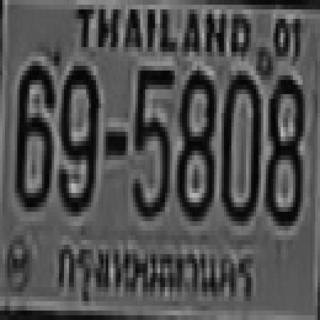N00: (219, 68, 258, 219)
N05: (131, 64, 172, 214)
N06: (14, 59, 53, 205)
N08: (263, 71, 303, 221), (175, 66, 214, 216)
N09: (58, 61, 97, 212)
P04: (54, 236, 258, 302)
